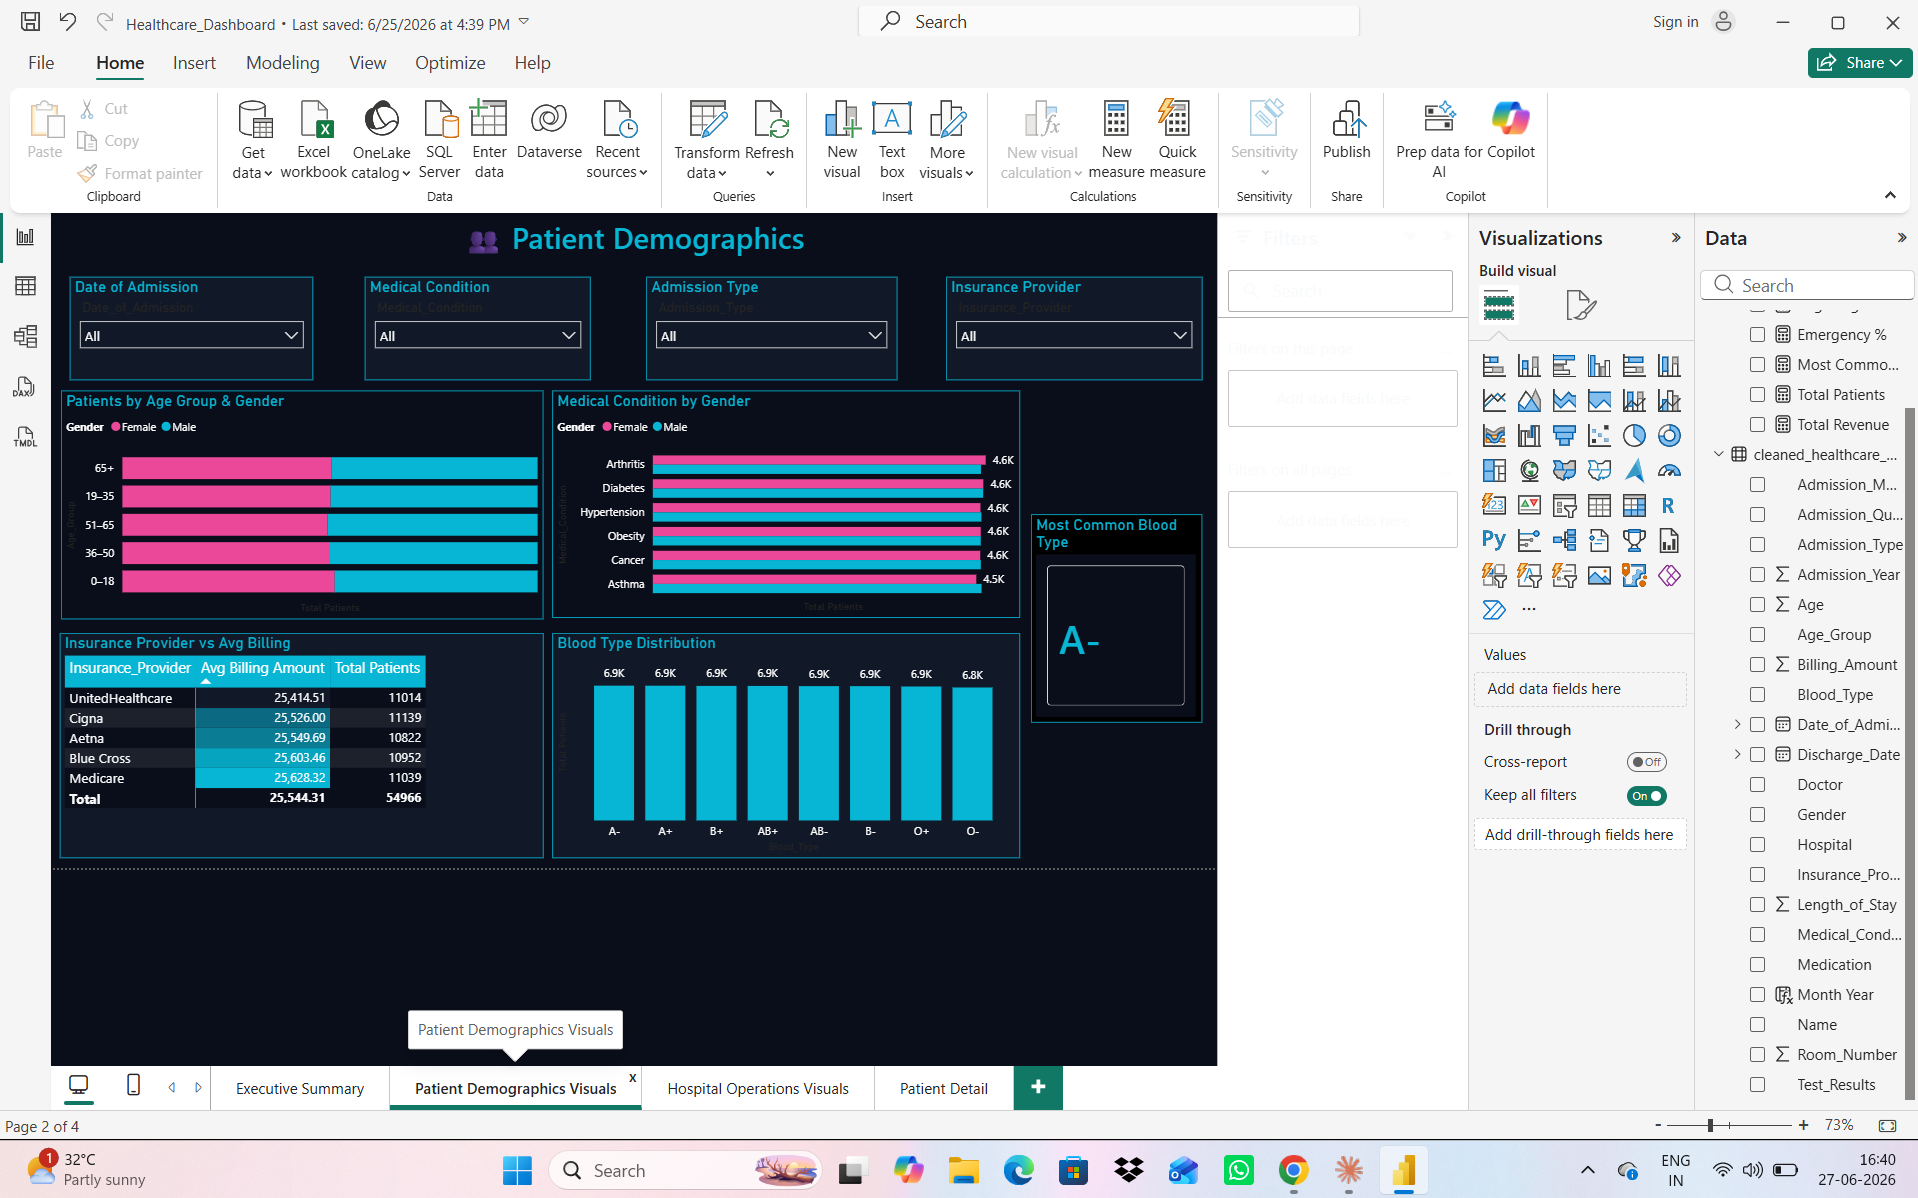

The page's visual inventory and layout, read from the dashboard file:
{"tool":"powerbi","page":{"name":" Patient Demographics  Visuals","canvas":[1280,720],"ordinal":1},"visuals":[{"type":"textbox","box":[0,0,1280.3,57.6],"z":0},{"type":"hundredPercentStackedBarChart","title":"Patients by Age Group & Gender","fields":{"Category":["cleaned_healthcare_dataset.Age_Group"],"Y":["Table_Measures.Total Patients"],"Series":["cleaned_healthcare_dataset.Gender"]},"box":[11,194.9,529.7,251.1],"z":1000},{"type":"clusteredBarChart","title":"Medical Condition by Gender","fields":{"Category":["cleaned_healthcare_dataset.Medical_Condition"],"Y":["Table_Measures.Total Patients"],"Series":["cleaned_healthcare_dataset.Gender"]},"box":[550.3,194.9,513.2,249.7],"z":2000},{"type":"pivotTable","title":"Insurance Provider vs Avg Billing","fields":{"Rows":["cleaned_healthcare_dataset.Insurance_Provider"],"Values":["Table_Measures.Avg Billing Amount","Table_Measures.Total Patients"]},"box":[9.6,461.1,531,247],"z":3000},{"type":"cardVisual","title":"Most Common Blood Type","fields":{"Data":["Table_Measures.Most Common Blood Type"]},"box":[1075.8,330.7,188,229.2],"z":4000},{"type":"clusteredColumnChart","title":"Blood Type Distribution","fields":{"Category":["cleaned_healthcare_dataset.Blood_Type"],"Y":["Table_Measures.Total Patients"]},"box":[550.3,461.1,513.2,247],"z":5000},{"type":"slicer","title":"Date of Admission","fields":{"Values":["cleaned_healthcare_dataset.Date_of_Admission"]},"box":[20.6,70,267.6,113.9],"z":6000},{"type":"slicer","title":"Insurance Provider","fields":{"Values":["cleaned_healthcare_dataset.Insurance_Provider"]},"box":[982.5,70,281.3,113.9],"z":7000},{"type":"slicer","title":"Medical Condition","fields":{"Values":["cleaned_healthcare_dataset.Medical_Condition"]},"box":[344.4,70,248.4,113.9],"z":8000},{"type":"slicer","title":"Admission Type","fields":{"Values":["cleaned_healthcare_dataset.Admission_Type"]},"box":[653.2,70,275.8,113.9],"z":9000}]}

Visuals, with their boxes on the page's 1280x720 design canvas (x1, y1, x2, y2). These are canvas units, not pixel positions in the 1918x1198 screenshot, which may show the page scaled, cropped or inside an application window:
textbox: crop(0, 0, 1280, 58)
"Patients by Age Group & Gender" hundredPercentStackedBarChart: crop(11, 195, 541, 446)
"Medical Condition by Gender" clusteredBarChart: crop(550, 195, 1064, 445)
"Insurance Provider vs Avg Billing" pivotTable: crop(10, 461, 541, 708)
"Most Common Blood Type" cardVisual: crop(1076, 331, 1264, 560)
"Blood Type Distribution" clusteredColumnChart: crop(550, 461, 1064, 708)
"Date of Admission" slicer: crop(21, 70, 288, 184)
"Insurance Provider" slicer: crop(982, 70, 1264, 184)
"Medical Condition" slicer: crop(344, 70, 593, 184)
"Admission Type" slicer: crop(653, 70, 929, 184)
